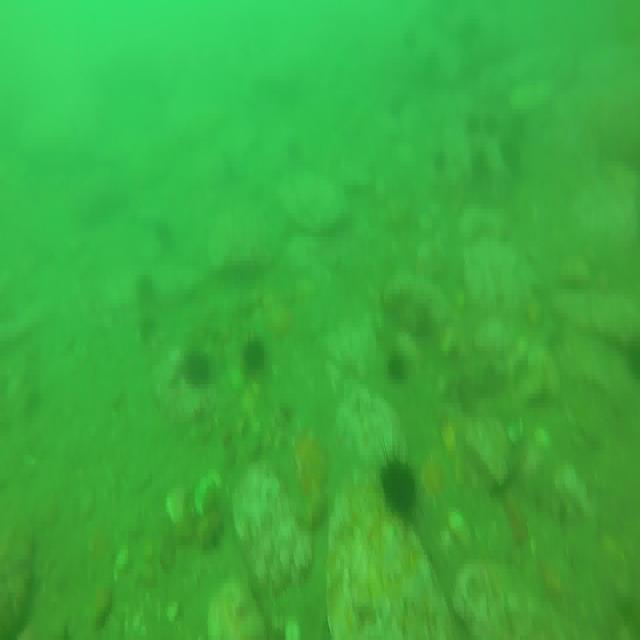echinus: (379, 451, 418, 526), (183, 346, 211, 391), (241, 333, 266, 378), (388, 347, 408, 378)
